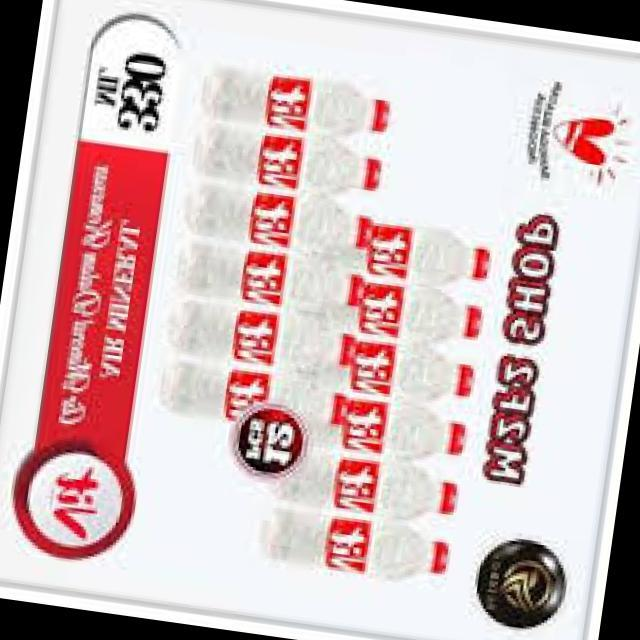good: (232, 484, 462, 612), (264, 436, 471, 554), (273, 317, 480, 421), (266, 380, 472, 483), (291, 264, 492, 367), (176, 350, 356, 462), (292, 206, 498, 299), (196, 52, 390, 148), (174, 292, 368, 386), (178, 234, 374, 326), (196, 127, 386, 207), (185, 188, 376, 260)
